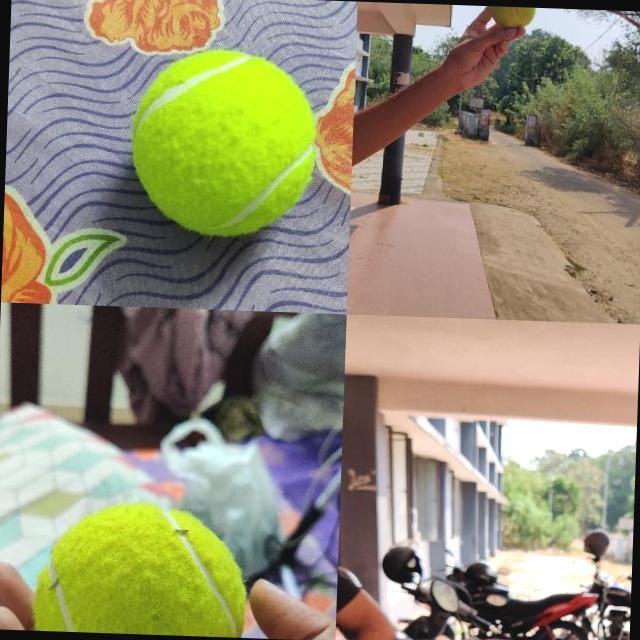Tennis Ball: (127, 45, 320, 238), (29, 497, 252, 637), (489, 5, 536, 28)
